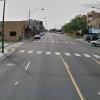cars: (90, 38, 100, 48)
